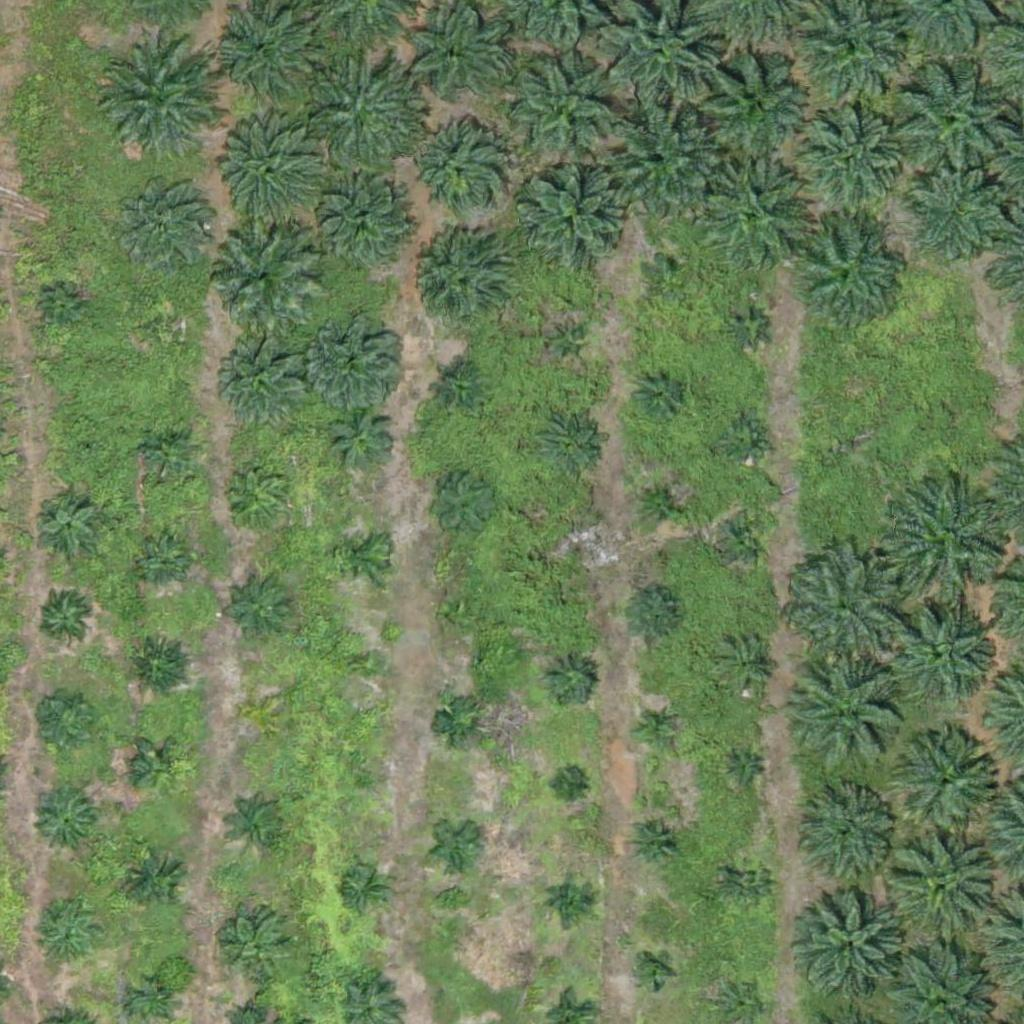Kelapa_Sawit: (92, 36, 217, 162), (502, 50, 627, 176), (598, 109, 723, 235), (685, 37, 810, 163), (886, 61, 1011, 187), (887, 478, 1012, 604), (304, 51, 429, 176), (787, 98, 900, 212), (900, 160, 1013, 274), (203, 219, 316, 332), (519, 165, 632, 278), (791, 217, 904, 330), (888, 831, 1000, 945), (210, 115, 322, 228), (698, 165, 810, 278), (788, 551, 900, 664), (797, 657, 909, 770), (113, 175, 213, 276), (216, 3, 316, 104), (314, 175, 414, 276), (404, 3, 504, 104), (406, 120, 506, 221), (404, 233, 504, 334), (890, 601, 990, 702), (896, 729, 996, 830), (309, 310, 409, 411), (801, 895, 901, 995), (806, 791, 893, 879), (222, 343, 309, 431), (25, 685, 100, 761), (423, 466, 498, 541), (34, 906, 97, 969), (228, 578, 291, 641), (127, 633, 190, 696), (137, 423, 200, 486), (621, 583, 684, 646), (33, 790, 95, 853), (123, 850, 185, 913), (225, 917, 288, 979), (231, 795, 293, 858), (34, 492, 96, 555), (539, 414, 601, 477), (330, 405, 392, 468), (228, 468, 290, 531), (720, 640, 770, 691), (336, 528, 386, 579), (543, 653, 593, 704), (636, 475, 686, 526), (725, 858, 775, 908), (545, 875, 595, 925), (433, 820, 483, 870), (133, 742, 183, 792), (340, 863, 390, 913), (41, 594, 91, 644), (135, 535, 185, 585), (634, 366, 684, 416), (435, 700, 485, 750), (720, 513, 770, 563), (723, 303, 773, 353), (719, 414, 769, 464), (539, 318, 589, 368), (642, 249, 692, 299), (631, 703, 681, 753), (630, 817, 680, 867), (443, 596, 481, 634), (634, 952, 672, 990), (441, 372, 479, 409), (149, 310, 187, 347), (132, 982, 169, 1020), (45, 290, 82, 328), (566, 529, 591, 554), (732, 758, 757, 783), (555, 772, 580, 797), (354, 765, 379, 790), (354, 649, 379, 674), (249, 703, 274, 728), (76, 440, 101, 465)
